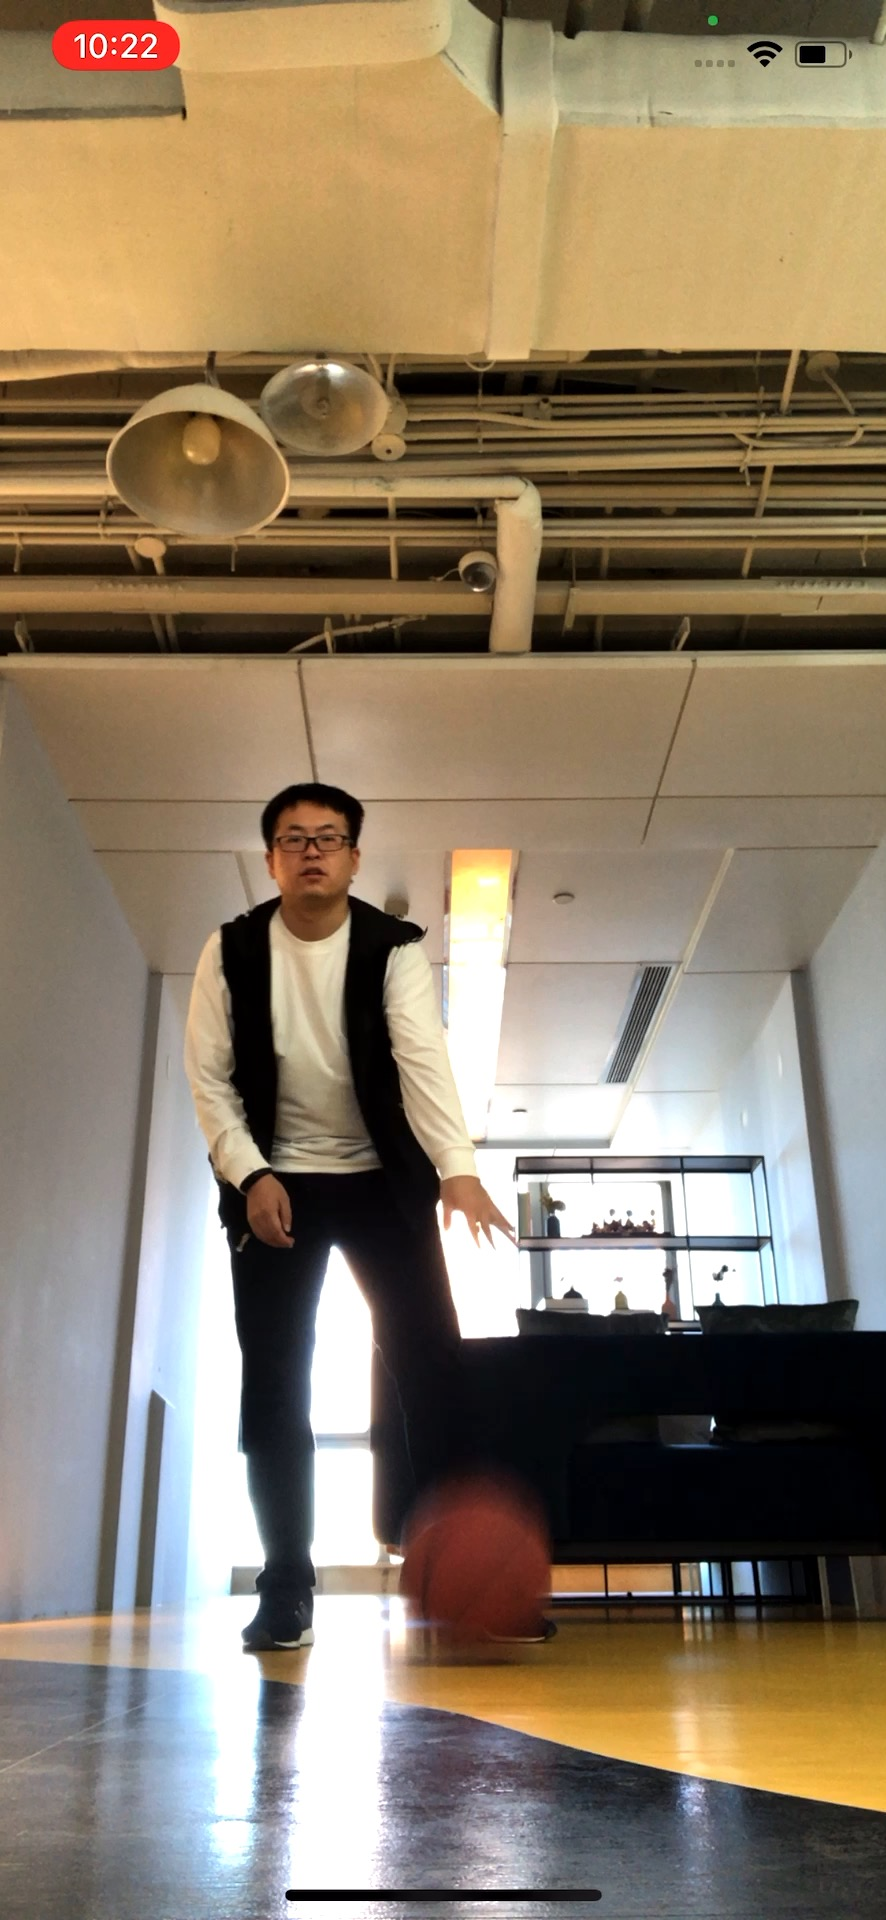ball: (408, 1506, 556, 1653)
